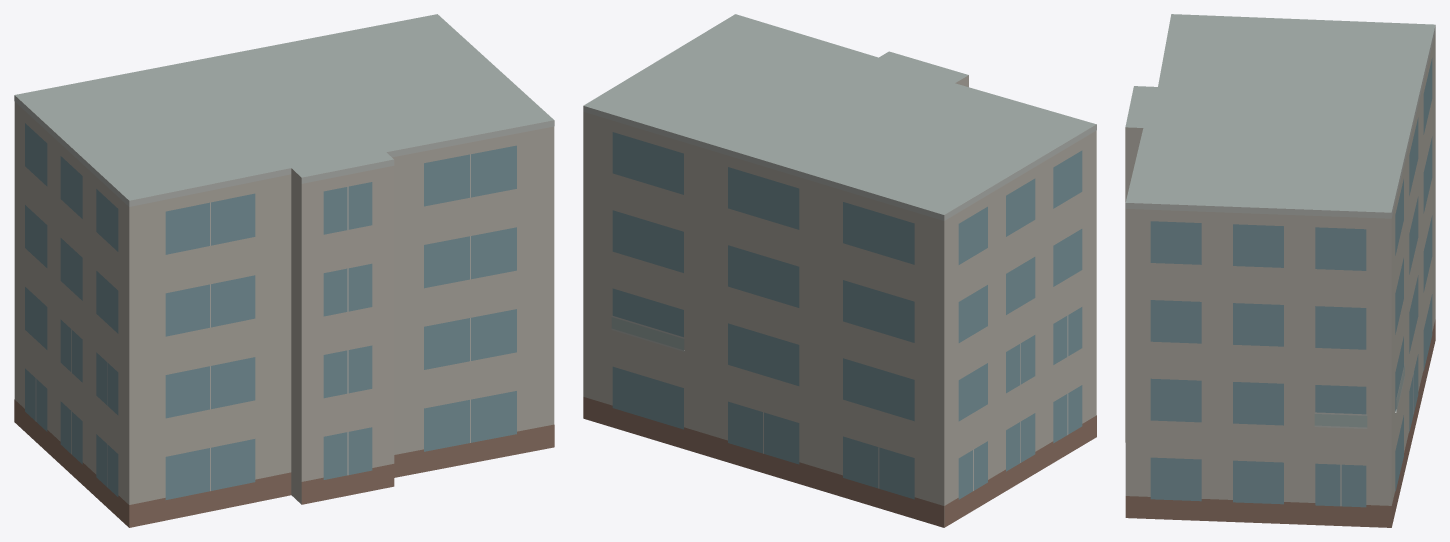
File: survey-upis-32945997.glb
3 renders of one model, left to right at view 1: azimuth 30°, elevation 25°; view 2: azimuth 150°, elevation 25°; view 3: azimuth 270°, elevation 25°, orthographic. The views are drawn at different scales.
Parts seen in each view (by area): view 1: survey-upis-32945997.tmp; view 2: survey-upis-32945997.tmp; view 3: survey-upis-32945997.tmp.
Part boxes in pixels (box(x1,y1,x2,y2)): survey-upis-32945997.tmp: box(14, 14, 554, 527); survey-upis-32945997.tmp: box(583, 14, 1096, 527); survey-upis-32945997.tmp: box(1125, 14, 1435, 527).
Size of the model in its own units: 17.32 by 12.8 by 11.43.
